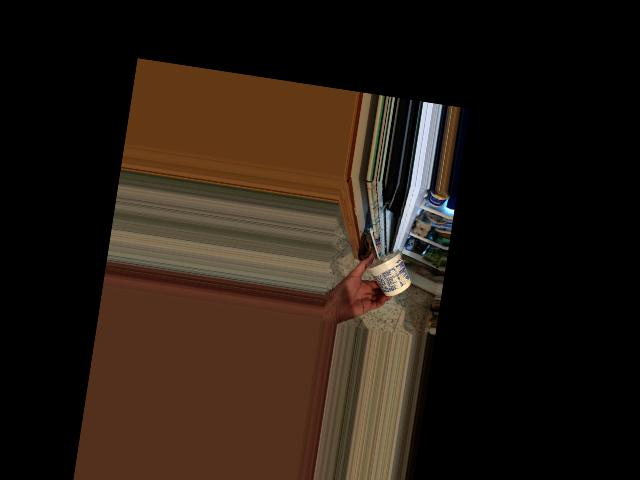cotage: (363, 243, 416, 301)
